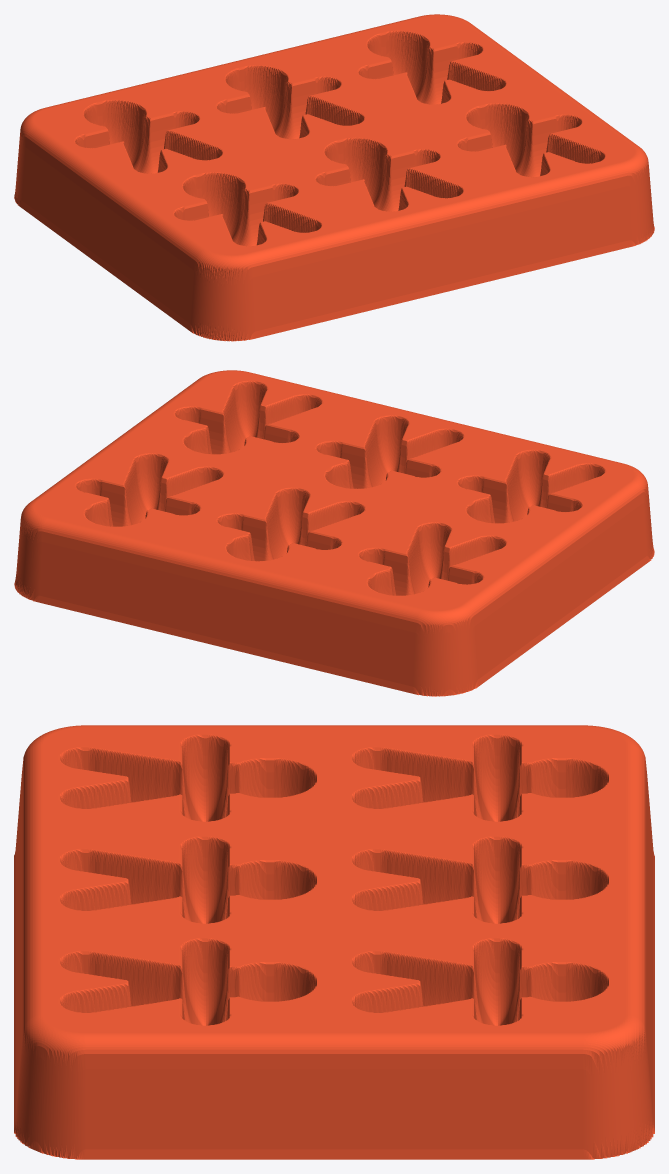
Rendered from mold.glb.
The picture shows the model from 3 angles, top to bottom: view 1: azimuth 30°, elevation 25°; view 2: azimuth 150°, elevation 25°; view 3: azimuth 270°, elevation 25°; orthographic projection. The views are drawn at different scales.
Parts seen in each view (by area): view 1: geometry_0; view 2: geometry_0; view 3: geometry_0.
Part boxes in pixels (bbox=[...]): geometry_0: bbox=[14, 14, 654, 341]; geometry_0: bbox=[14, 370, 654, 696]; geometry_0: bbox=[14, 725, 654, 1159].
Bounding box in the file's own units: 0.0984 × 0.0159 × 0.0808.
